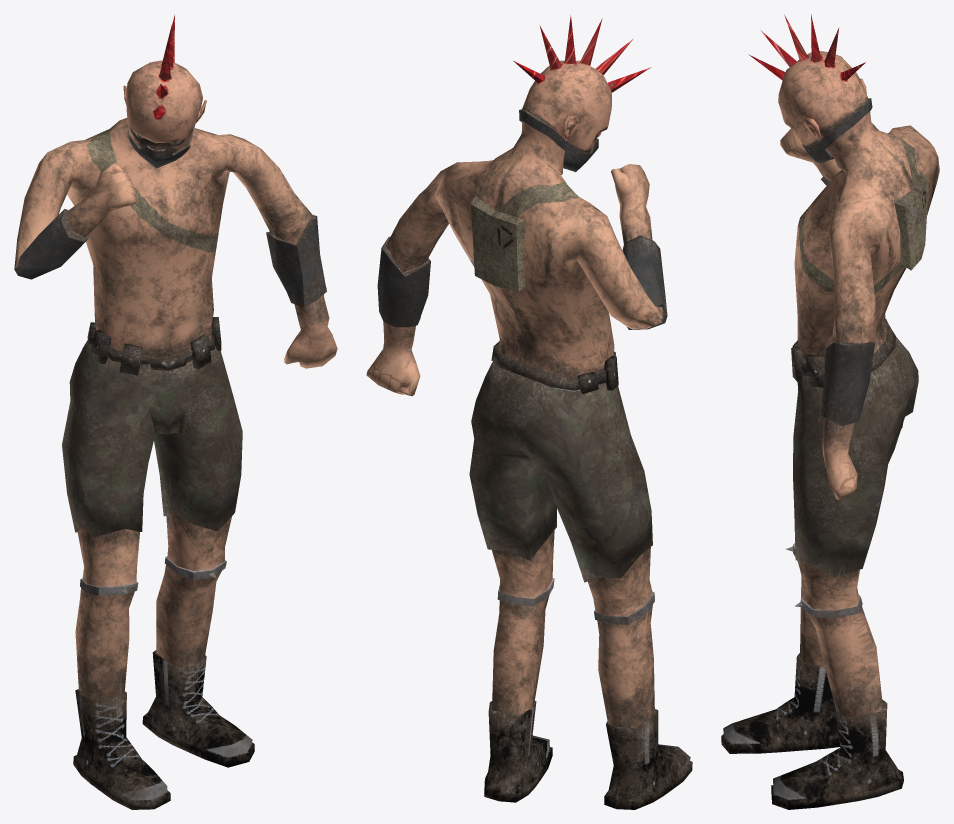
File: Anim_perder_1_npc2.0036.obj
The picture shows the model from 3 angles, left to right: view 1: azimuth 30°, elevation 25°; view 2: azimuth 150°, elevation 25°; view 3: azimuth 270°, elevation 25°; orthographic projection. The views are drawn at different scales.
Visible parts, largest first — view 1: polySurface1; view 2: polySurface1; view 3: polySurface1.
Boxes of the visible parts, box(x1,y1,x2,y2) form: polySurface1: box(14, 15, 337, 809); polySurface1: box(366, 15, 692, 809); polySurface1: box(721, 14, 939, 809).
Bounding box in the file's own units: 4.26 × 9.9 × 2.58.
Materials: 2 (2 with a texture image).
